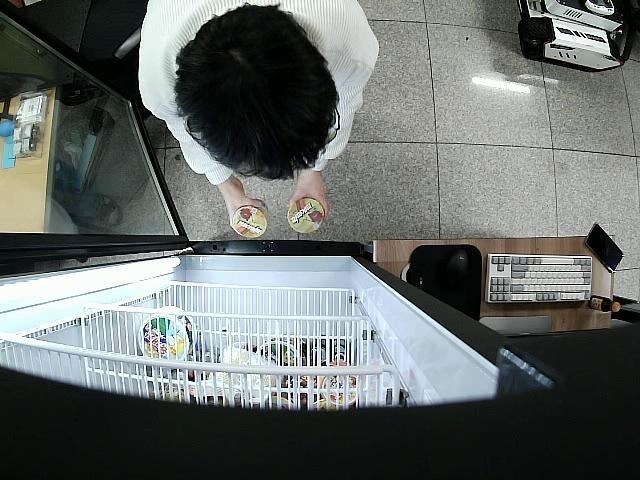04_chapagetti_S: (230, 198, 270, 238), (285, 198, 322, 234)
